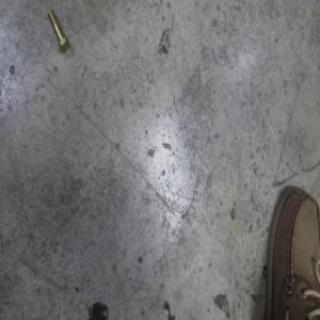Bolttrack_idkeyframe: (47, 7, 69, 53)
